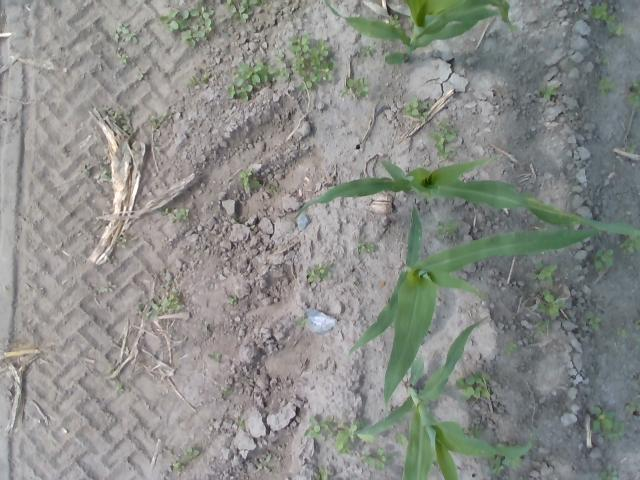Maize: (348, 208, 622, 414), (337, 312, 534, 480), (291, 161, 640, 238), (318, 0, 515, 65)
Weeds: (158, 1, 214, 49), (288, 34, 336, 90), (226, 60, 290, 102), (334, 420, 376, 454), (428, 119, 459, 159), (592, 406, 626, 442), (222, 0, 268, 23), (456, 371, 492, 400), (150, 290, 182, 320), (536, 288, 566, 317), (361, 447, 395, 471), (305, 416, 334, 442), (403, 96, 429, 125), (173, 445, 199, 472), (110, 106, 134, 135), (110, 21, 138, 44), (305, 262, 337, 282), (340, 77, 370, 98), (530, 262, 558, 284), (237, 166, 259, 192), (593, 248, 615, 271), (604, 12, 625, 36), (162, 206, 190, 222), (624, 79, 640, 107), (596, 76, 617, 97), (619, 234, 640, 255), (538, 83, 561, 102), (436, 220, 459, 239), (146, 110, 170, 128), (588, 1, 608, 20), (487, 453, 503, 473), (502, 454, 522, 470), (586, 310, 602, 330), (461, 425, 483, 439), (383, 12, 401, 28), (534, 318, 552, 334), (258, 453, 274, 470), (357, 240, 376, 253), (505, 340, 518, 358), (394, 431, 408, 447), (596, 470, 618, 480), (116, 51, 130, 65), (625, 402, 640, 414), (314, 469, 330, 480), (360, 44, 373, 57), (186, 76, 198, 90), (264, 182, 278, 193), (234, 415, 246, 427), (99, 166, 111, 178), (200, 70, 210, 84), (296, 316, 307, 328), (624, 144, 637, 154), (616, 327, 627, 338), (114, 382, 126, 392), (208, 351, 220, 360), (227, 295, 237, 305), (98, 285, 110, 293), (276, 54, 286, 63), (601, 55, 610, 63), (634, 318, 640, 324)
